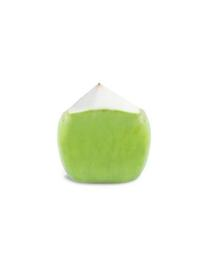coconut: (56, 82, 151, 183)
